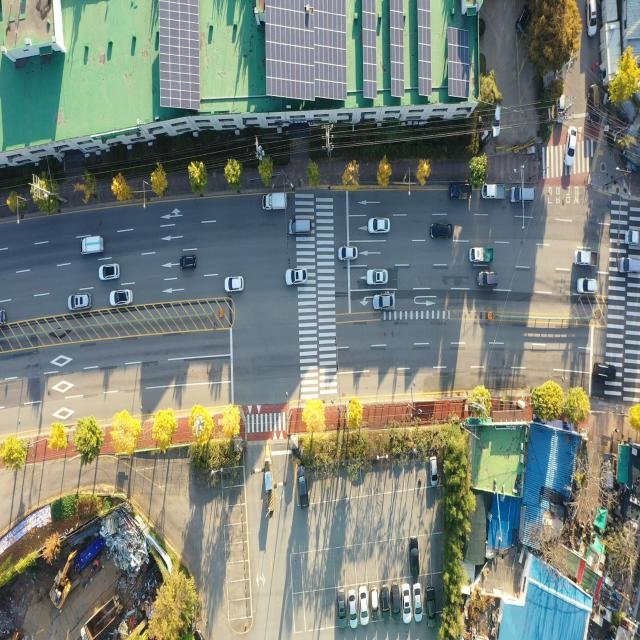car: (562, 126, 579, 171), (67, 288, 95, 314), (283, 262, 309, 289), (509, 183, 536, 207), (408, 533, 421, 580), (108, 287, 134, 310), (593, 359, 617, 383), (336, 583, 348, 631), (97, 260, 122, 283), (428, 221, 454, 243), (286, 215, 312, 237), (489, 98, 503, 138), (584, 0, 598, 40), (297, 463, 309, 509), (391, 580, 402, 628), (366, 264, 389, 286), (372, 292, 396, 313), (426, 582, 436, 629), (575, 276, 598, 296), (367, 216, 390, 236), (380, 578, 390, 624), (412, 578, 422, 624), (428, 451, 440, 489), (401, 581, 411, 626), (178, 251, 199, 272), (224, 274, 244, 296), (348, 586, 358, 630), (360, 583, 370, 627), (616, 256, 640, 274), (476, 270, 500, 288), (337, 243, 359, 262), (370, 583, 380, 623)
small_truck: (468, 245, 494, 268), (575, 247, 600, 269), (78, 236, 105, 256), (262, 193, 287, 214), (482, 180, 508, 200), (588, 82, 600, 125), (448, 181, 473, 201)
